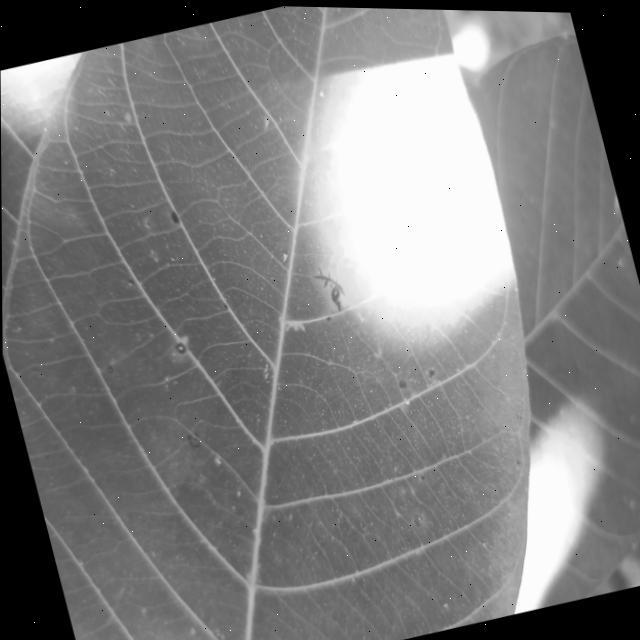Colletotrichum: (172, 340, 185, 354), (396, 377, 406, 387), (104, 364, 112, 373)
Corynespora: (309, 262, 348, 314)
